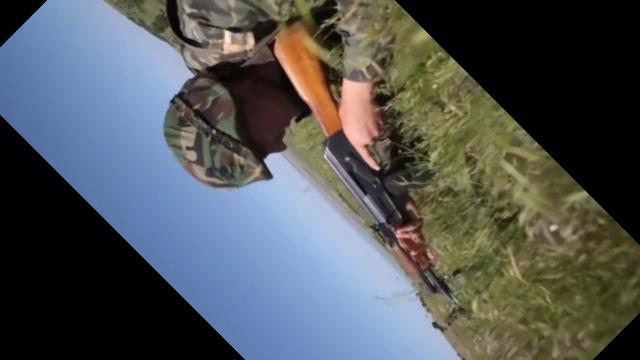larga: (273, 20, 467, 335)
